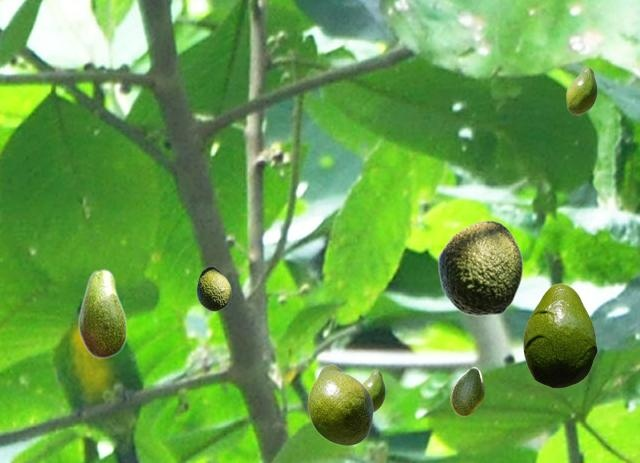avocado: (437, 220, 522, 315), (523, 283, 596, 387), (307, 364, 372, 445), (78, 268, 126, 358), (450, 367, 483, 415), (196, 266, 230, 310), (566, 66, 596, 114), (363, 369, 384, 413)
